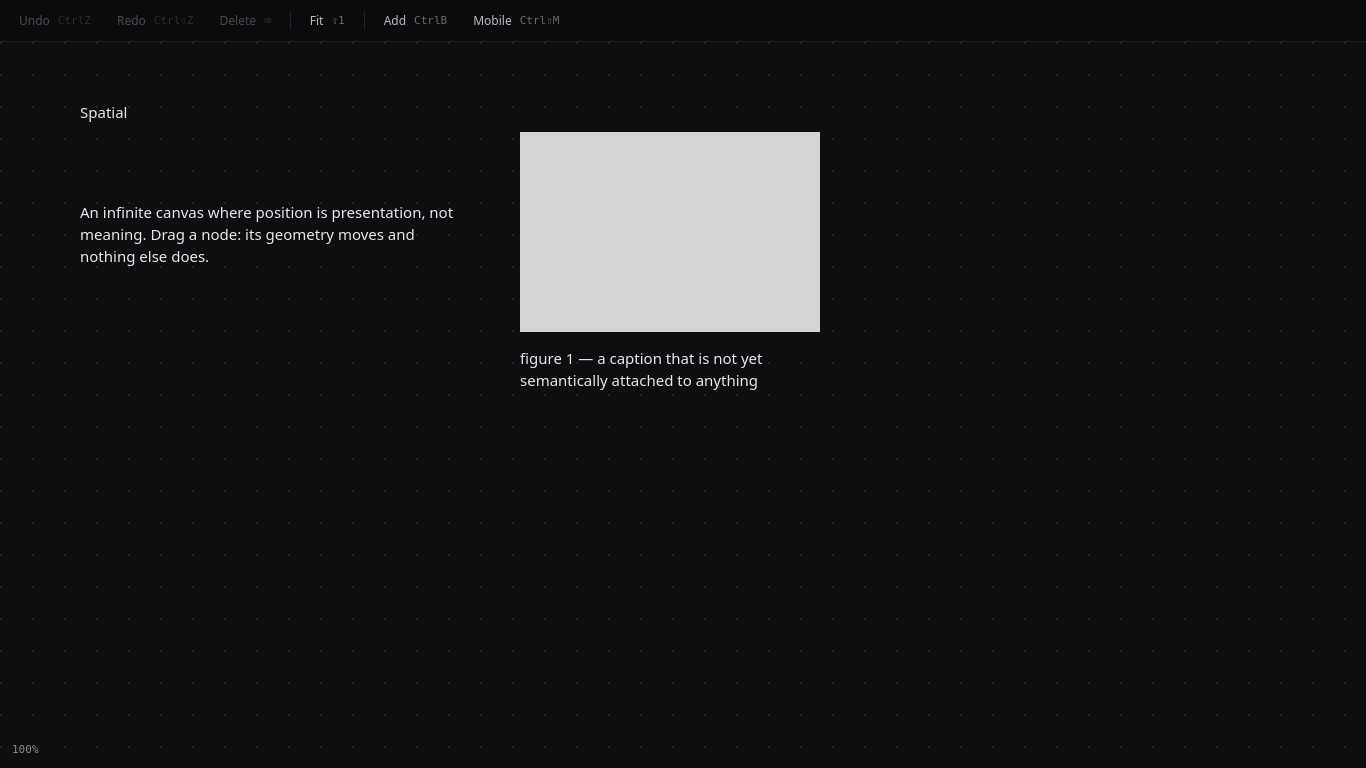
the palette › opens from the toolbar
The image size is (1366, 768).
What coordinates should you click on to do the following:
click the button "Add"
I would click on:
 (415, 20)
Its box is [373,6,458,35].
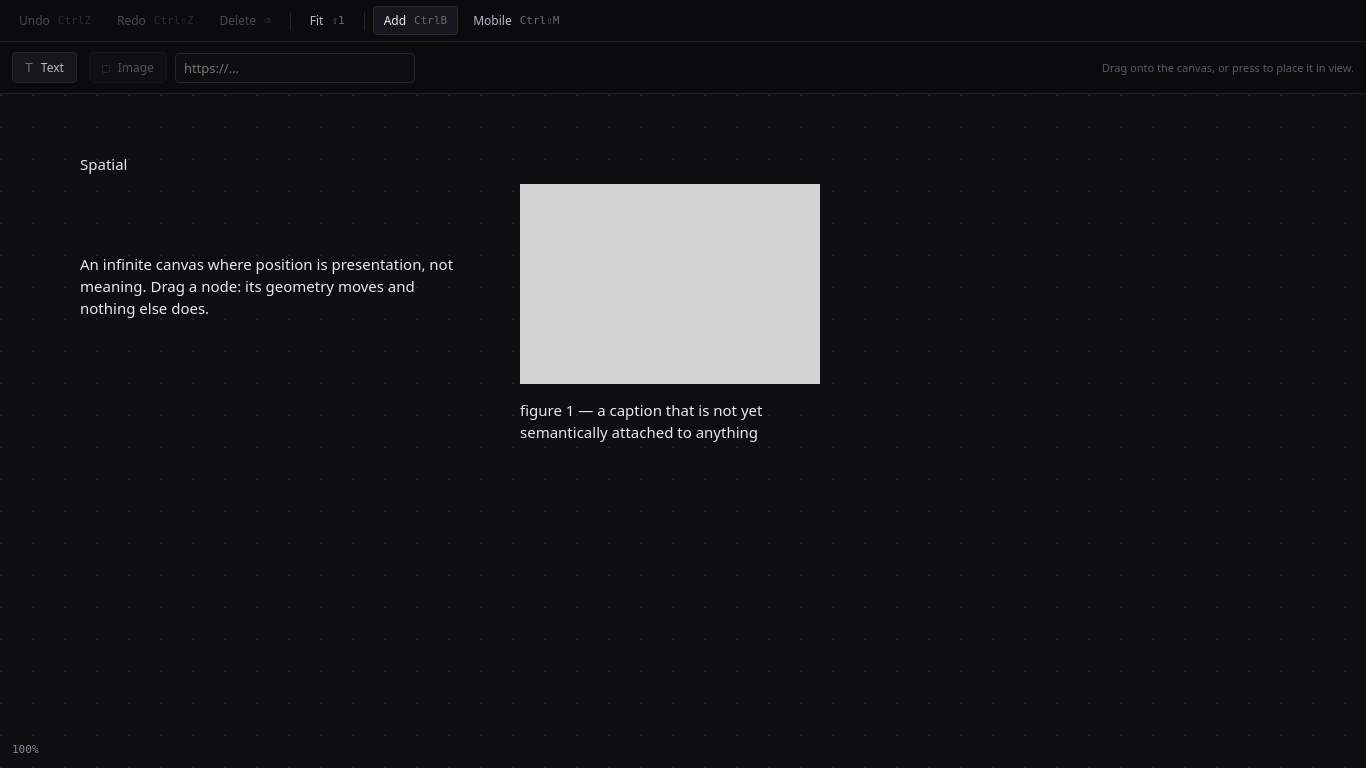
Expected: the button "T Text" is shown, [12,52,77,83]
